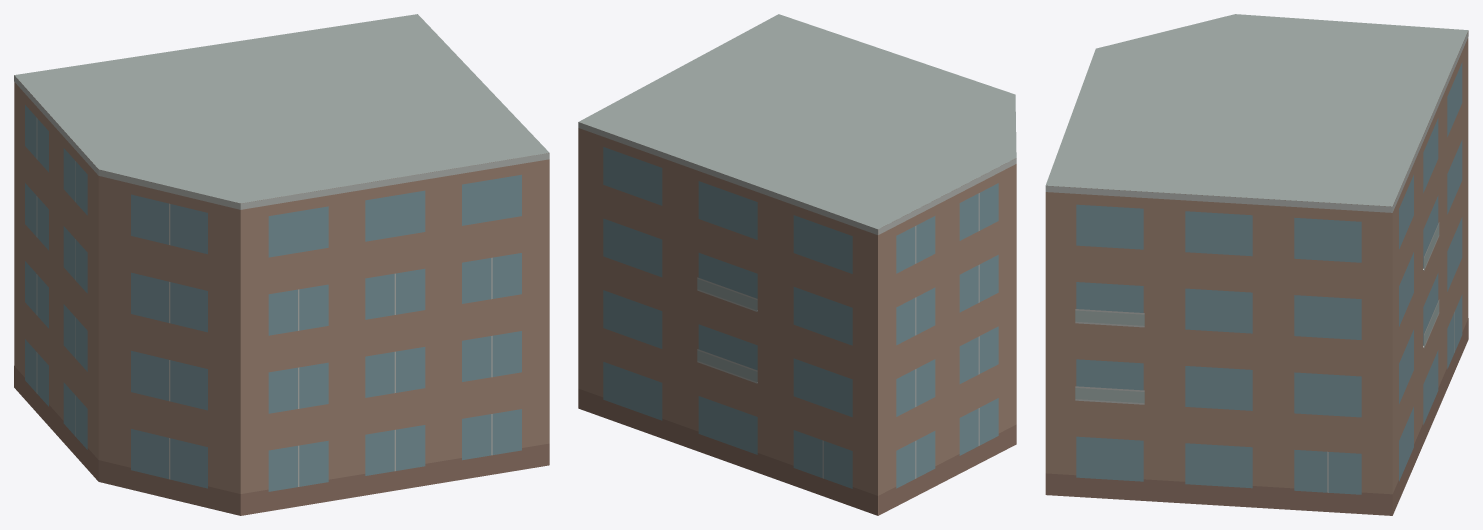
File: survey-upis-32950283.glb
3 renders of one model, left to right at view 1: azimuth 30°, elevation 25°; view 2: azimuth 150°, elevation 25°; view 3: azimuth 270°, elevation 25°, orthographic. The views are drawn at different scales.
Visible parts, largest first — view 1: survey-upis-32950283.tmp; view 2: survey-upis-32950283.tmp; view 3: survey-upis-32950283.tmp.
Part boxes in pixels (box(x1,y1,x2,y2)): survey-upis-32950283.tmp: box(14, 14, 549, 515); survey-upis-32950283.tmp: box(578, 14, 1016, 515); survey-upis-32950283.tmp: box(1045, 14, 1468, 515).
Bounding box in the file's own units: 15.83 × 11.85 × 14.69.
